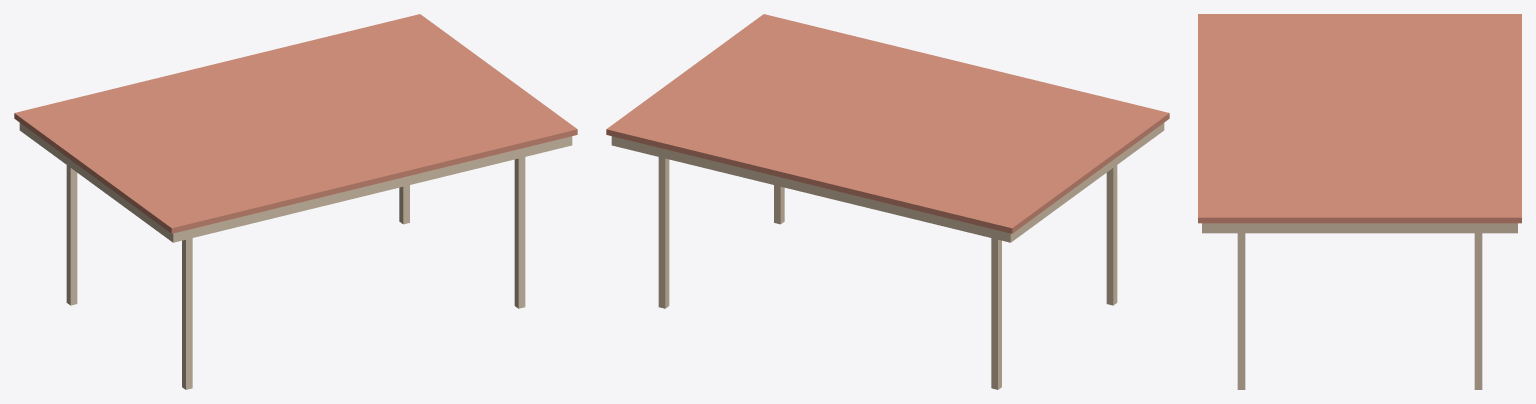
Rendered from fuelCanopy.obj.
3 views of the same model, side by side, from view 1: azimuth 30°, elevation 25°; view 2: azimuth 150°, elevation 25°; view 3: azimuth 270°, elevation 25° (orthographic). The views are drawn at different scales.
Visible parts, largest first — view 1: fuelCanopy; view 2: fuelCanopy; view 3: fuelCanopy.
Boxes of the visible parts, bbox=[...] form: fuelCanopy: bbox=[14, 14, 577, 389]; fuelCanopy: bbox=[606, 14, 1169, 389]; fuelCanopy: bbox=[1198, 14, 1521, 389].
Size of the model in its own units: 12.2 by 5.28 by 8.2.
